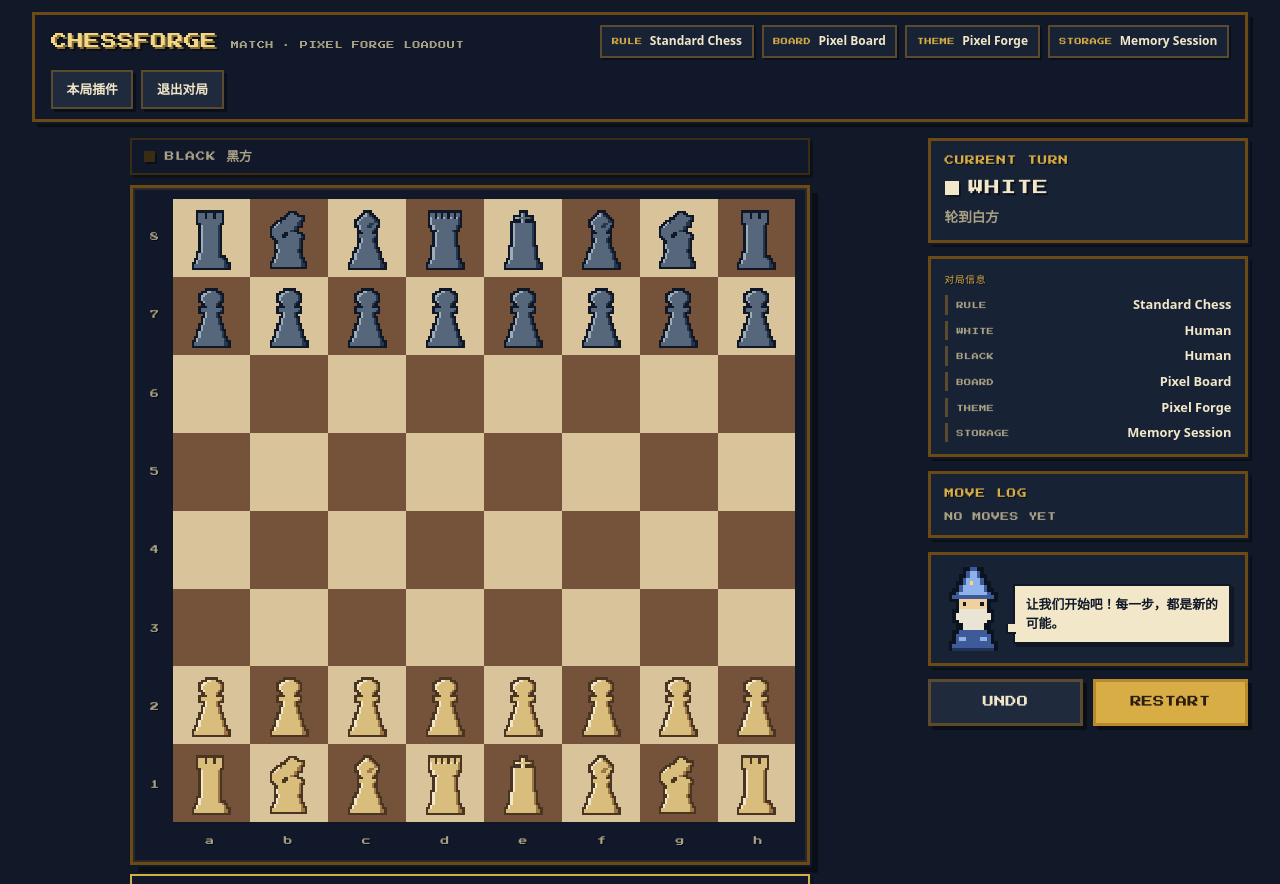
Test: shows the active plugin loadout on demand
What coordinates should you click on to do the following:
click the button "本局插件"
I would click on:
 (92, 89)
Its box is x1=51 y1=70 x2=133 y2=109.
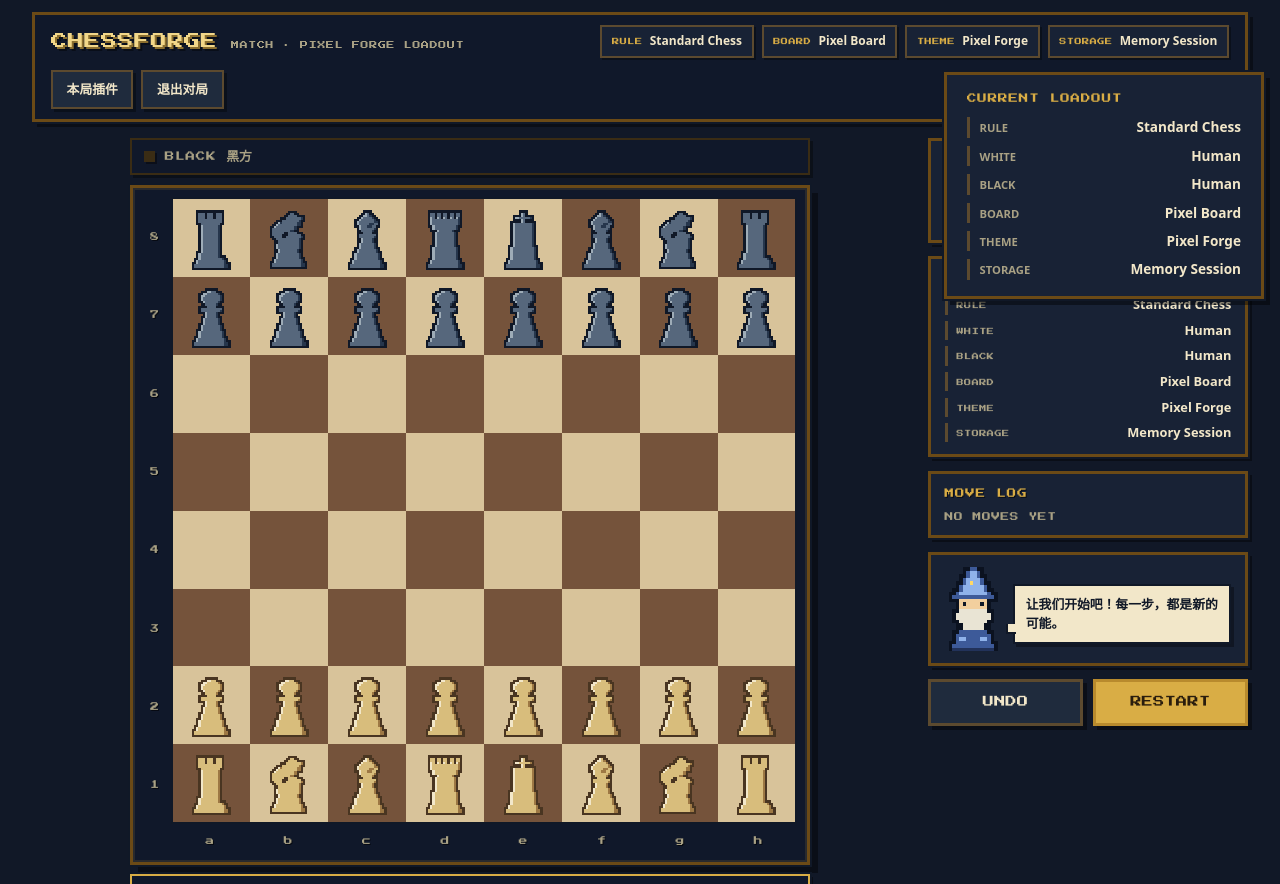
Check: the heading "CURRENT LOADOUT" is shown, box x1=967 y1=93 x2=1122 y2=103
Check: the text "Standard Chess" below "CURRENT LOADOUT" is shown, box x1=1136 y1=117 x2=1241 y2=136
Check: the text "Human" is shown 2 times, box x1=1191 y1=146 x2=1241 y2=166; x1=1191 y1=174 x2=1241 y2=195
